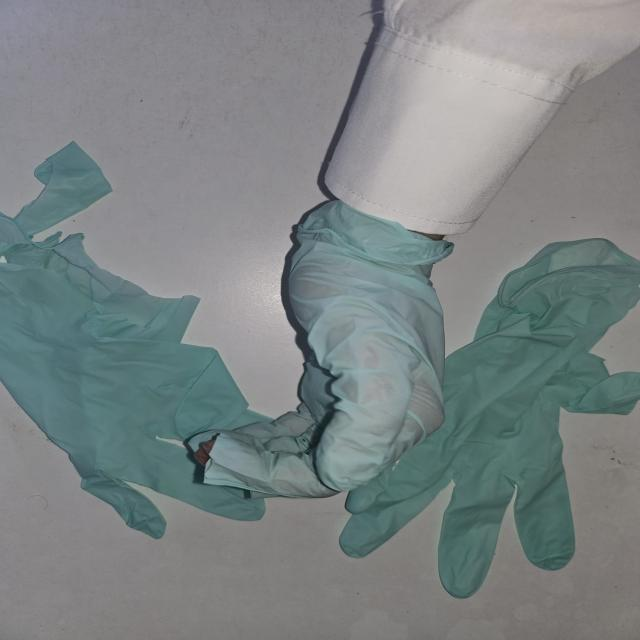gloves_damaged: (184, 206, 455, 500)
